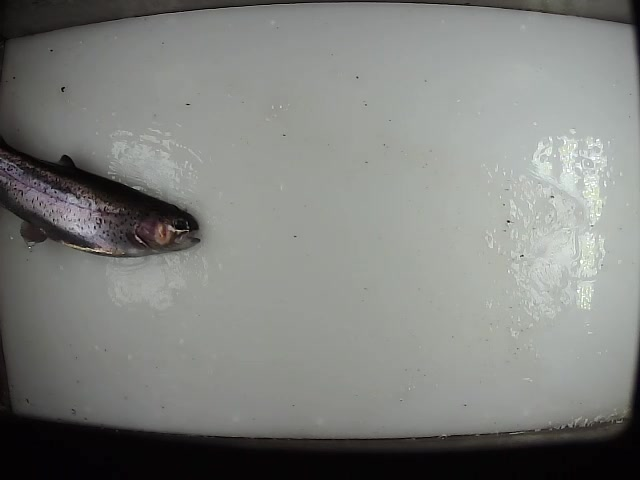fish: (1, 142, 201, 258)
